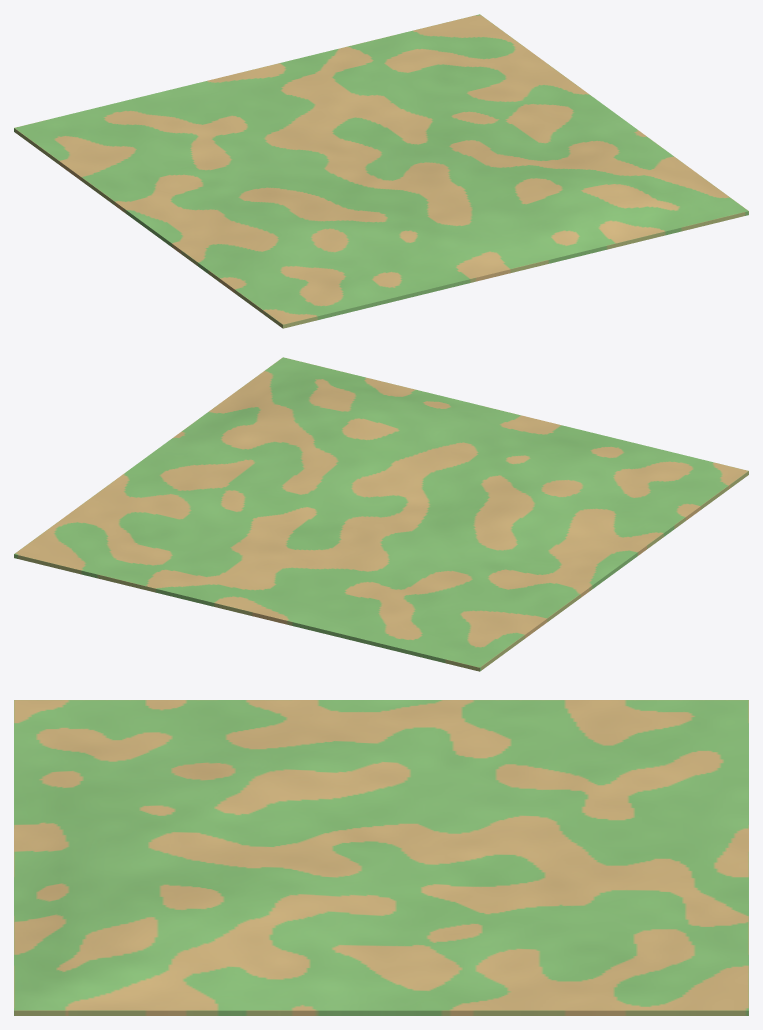
Rendered from Grass_Flat_04.obj.
The picture shows the model from 3 angles, top to bottom: view 1: azimuth 30°, elevation 25°; view 2: azimuth 150°, elevation 25°; view 3: azimuth 270°, elevation 25°; orthographic projection. The views are drawn at different scales.
Bounding box in the file's own units: 10 × 0.3221 × 10.
Materials: 1 (1 with a texture image).
